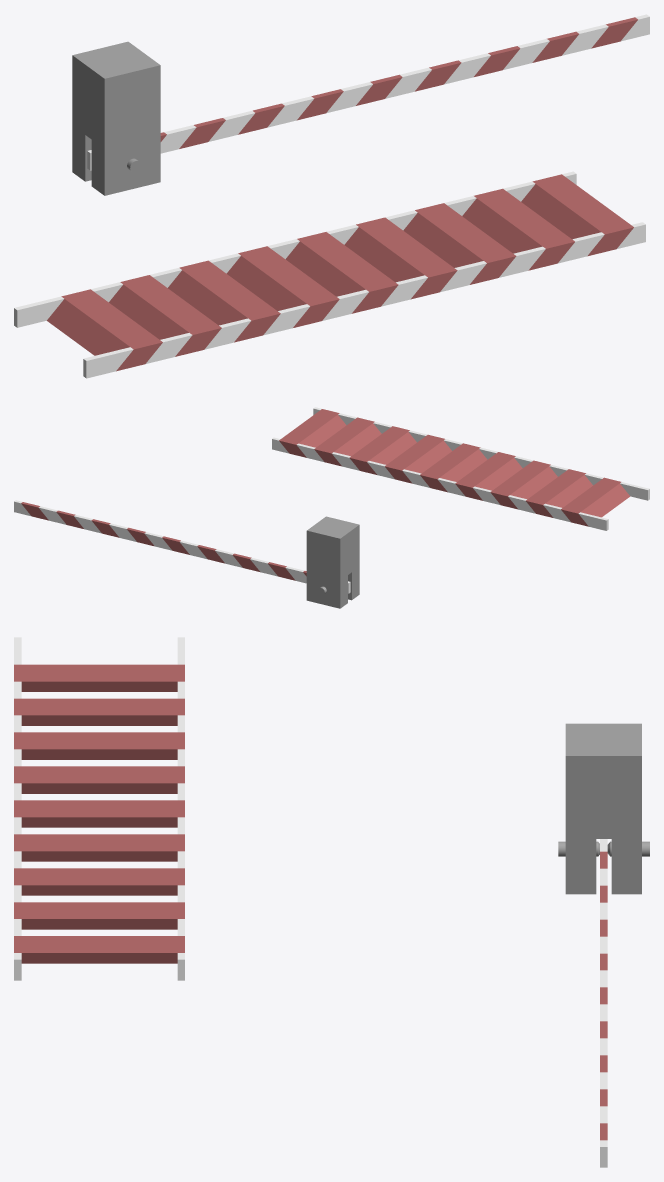
Rendered from RailroadGate.fbx.
3 renders of one model, top to bottom at view 1: azimuth 30°, elevation 25°; view 2: azimuth 150°, elevation 25°; view 3: azimuth 270°, elevation 25°, orthographic. The views are drawn at different scales.
Parts seen in each view (by area): view 1: StairsRight1, pCube3, pCube1; view 2: StairsRight1, pCube3, pCube1; view 3: StairsRight1, pCube3, pCube1.
Part boxes in pixels (left/top/right/bottom): StairsRight1: left=14, top=171, right=645, bottom=378; pCube3: left=72, top=41, right=160, bottom=195; pCube1: left=87, top=14, right=649, bottom=170; StairsRight1: left=272, top=407, right=649, bottom=530; pCube3: left=306, top=516, right=359, bottom=608; pCube1: left=14, top=500, right=350, bottom=593; StairsRight1: left=14, top=637, right=184, bottom=980; pCube3: left=565, top=723, right=641, bottom=894; pCube1: left=600, top=839, right=607, bottom=1167.
Bounding box in the file's own units: 7.25 × 1 × 4.17.
